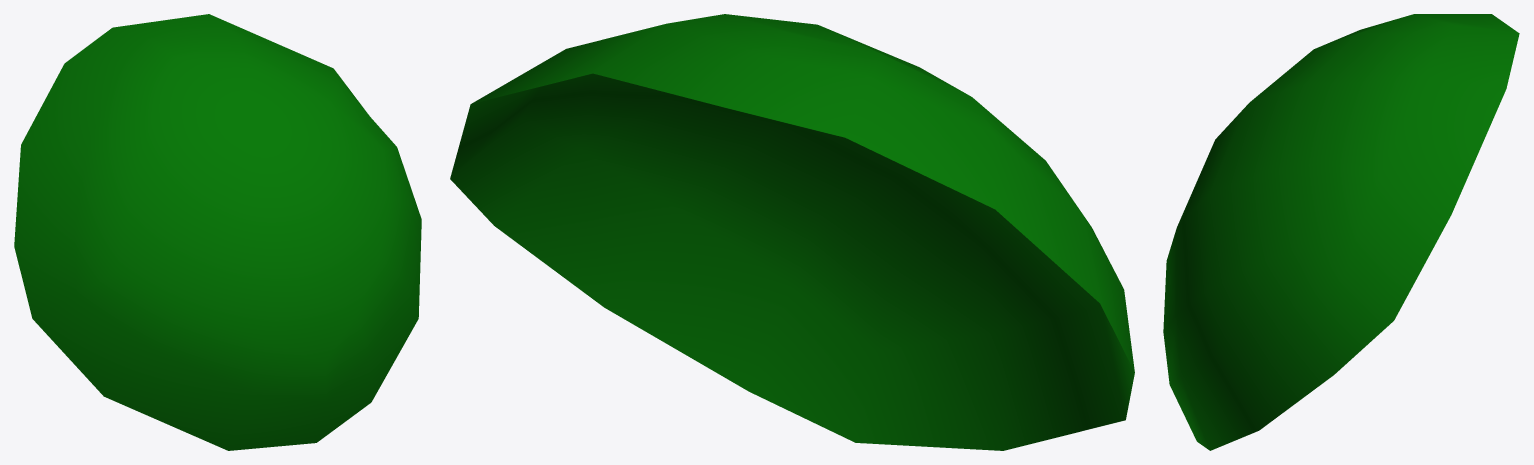
Rendered from Hoja.fbx.
3 renders of one model, left to right at view 1: azimuth 30°, elevation 25°; view 2: azimuth 150°, elevation 25°; view 3: azimuth 270°, elevation 25°, orthographic. The views are drawn at different scales.
Parts seen in each view (by area): view 1: Box009; view 2: Box009; view 3: Box009.
Part boxes in pixels (x1,y1,x2,y2): Box009: (14, 14, 421, 450); Box009: (450, 14, 1134, 450); Box009: (1163, 14, 1519, 450).
Bounding box in the file's own units: 85.93 × 69.91 × 58.71.
